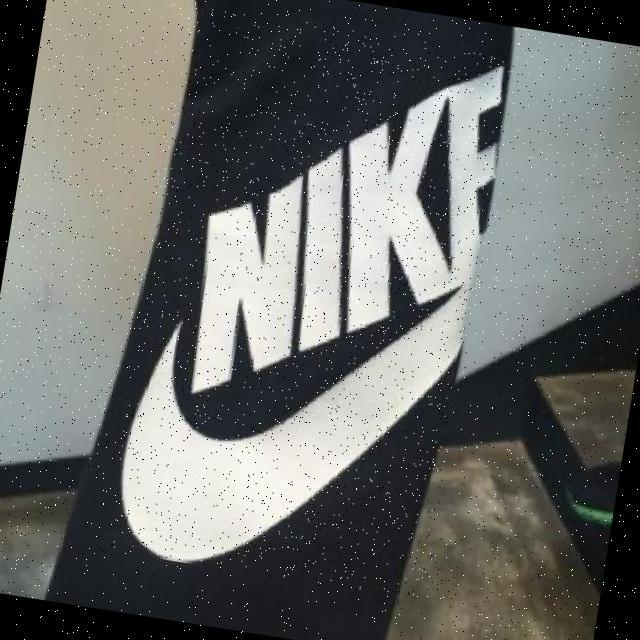Nike: (105, 4, 515, 601)
